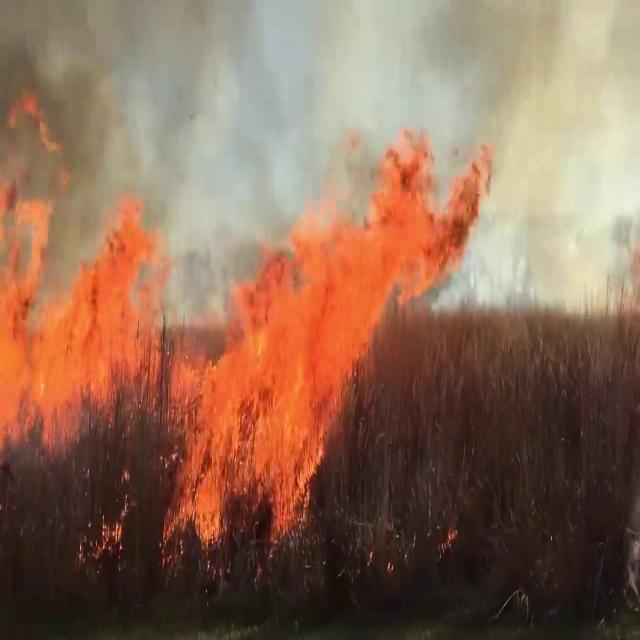Fire: (172, 128, 444, 558), (0, 129, 164, 468)
Smoke: (1, 1, 276, 268), (434, 0, 640, 323)
